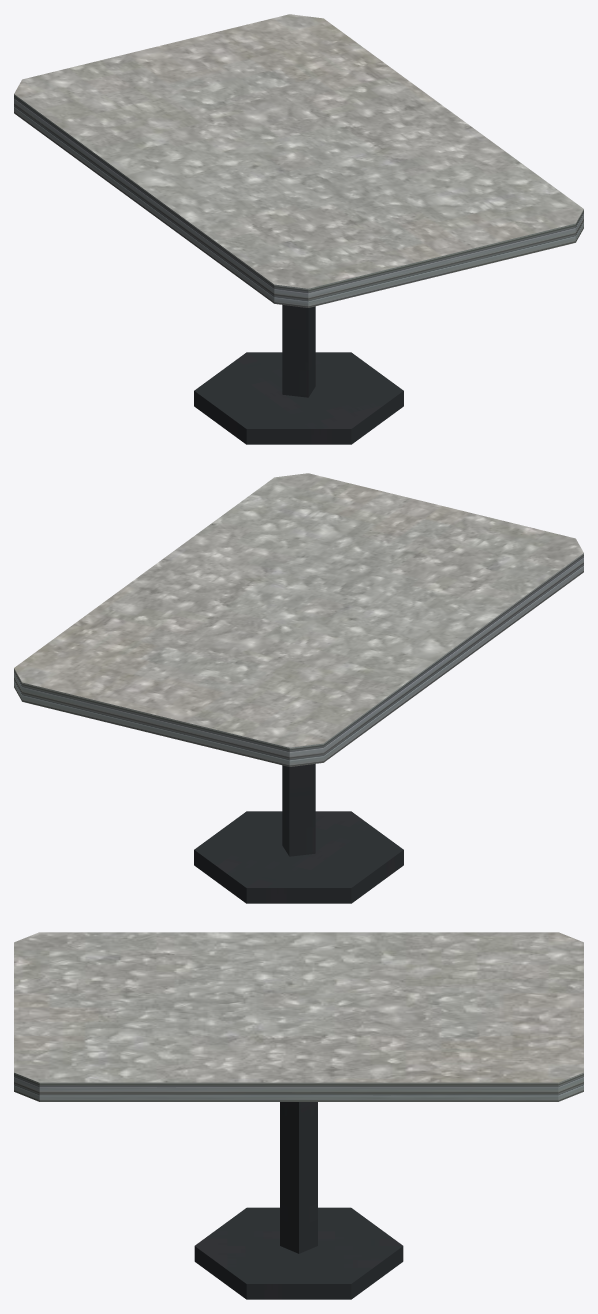
The model's file is Table.glb.
3 views of the same model, one above another, from view 1: azimuth 30°, elevation 25°; view 2: azimuth 150°, elevation 25°; view 3: azimuth 270°, elevation 25° (orthographic).
Parts seen in each view (by area): view 1: Table; view 2: Table; view 3: Table.
Part boxes in pixels (<box>): Table: <box>14,14,583,444</box>; Table: <box>14,473,583,903</box>; Table: <box>14,932,583,1299</box>.
Size of the model in its own units: 1.48 by 1.17 by 2.37.
3 materials, 3 textured.
